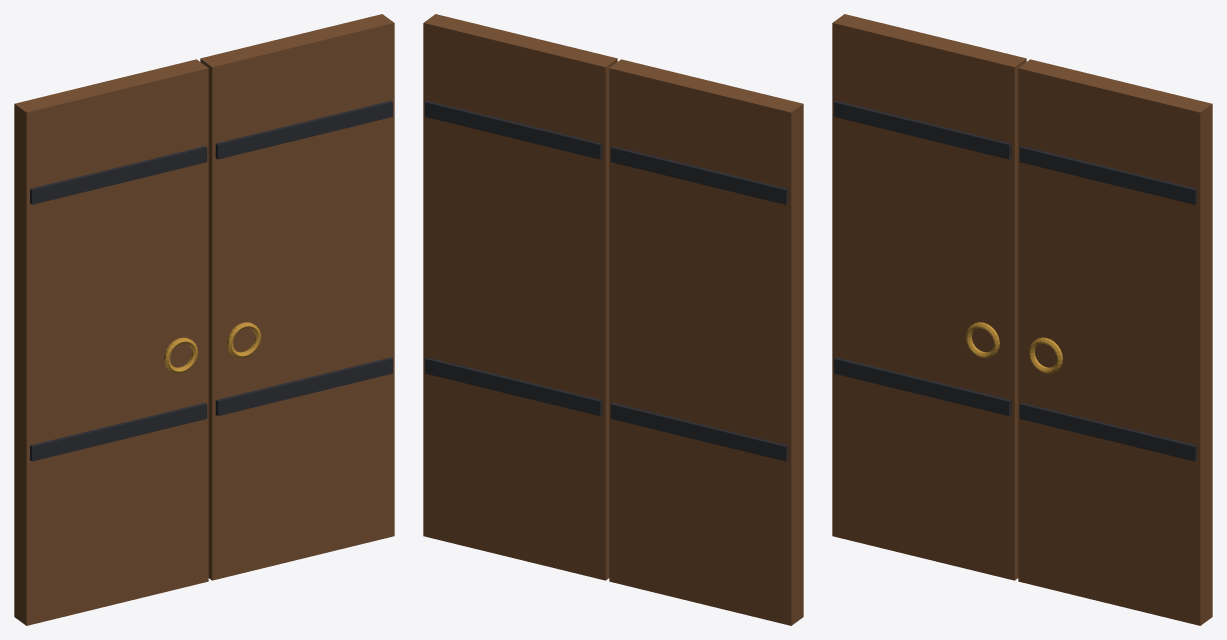
Rendered from mansion_door.glb.
3 views of the same model, side by side, from view 1: azimuth 30°, elevation 25°; view 2: azimuth 150°, elevation 25°; view 3: azimuth 330°, elevation 25° (orthographic).
Parts seen in each view (by area): view 1: mansion_door.left, mansion_door.right; view 2: mansion_door.left, mansion_door.right; view 3: mansion_door.right, mansion_door.left.
Boxes of the visible parts, <box> form: mansion_door.left: <box>14,59,208,625</box>; mansion_door.right: <box>200,14,394,580</box>; mansion_door.left: <box>609,59,803,625</box>; mansion_door.right: <box>423,14,617,580</box>; mansion_door.right: <box>1018,59,1212,625</box>; mansion_door.left: <box>832,14,1026,580</box>.
Size of the model in its own units: 2.1 by 2.8 by 0.175.
